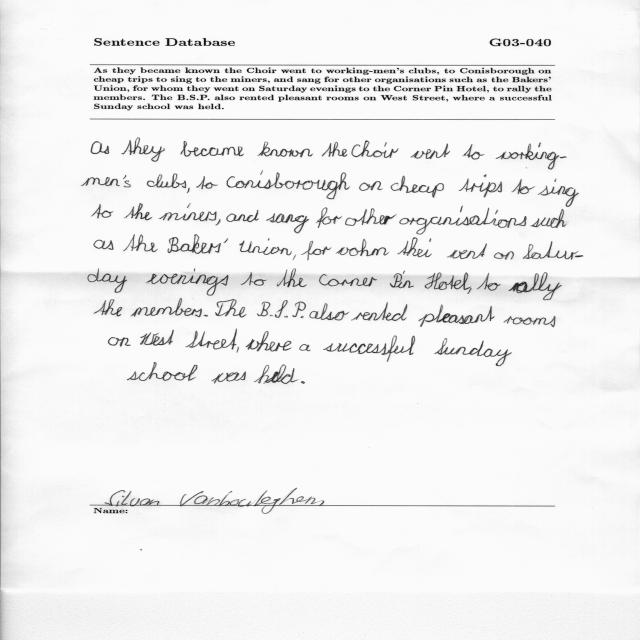word: (400, 206, 527, 235), (227, 171, 350, 199), (323, 335, 415, 362), (146, 269, 229, 296), (435, 338, 512, 366), (511, 178, 579, 207), (496, 143, 566, 170), (418, 304, 495, 327), (508, 272, 562, 300), (130, 298, 202, 317), (128, 363, 198, 381), (168, 234, 228, 254), (391, 176, 444, 198), (523, 241, 583, 260), (351, 302, 407, 321), (121, 138, 165, 162), (458, 174, 502, 198), (159, 203, 217, 221), (185, 329, 237, 349), (180, 141, 244, 157), (88, 268, 127, 293), (246, 331, 291, 352), (345, 208, 396, 226), (239, 238, 292, 255), (336, 239, 389, 256), (257, 300, 306, 318), (266, 213, 309, 233), (254, 365, 299, 384), (352, 140, 399, 158), (425, 272, 471, 290), (258, 142, 313, 157), (397, 238, 432, 258), (319, 274, 377, 286), (310, 304, 350, 321), (531, 209, 566, 228), (447, 243, 487, 259), (123, 234, 158, 252), (411, 144, 451, 159), (81, 175, 131, 187), (215, 299, 247, 317), (301, 241, 331, 260), (277, 269, 307, 288), (504, 316, 555, 327), (147, 174, 186, 188), (316, 207, 342, 228), (140, 330, 174, 346), (124, 204, 152, 221), (94, 300, 122, 317), (477, 273, 501, 291), (211, 372, 246, 384), (390, 271, 414, 288), (226, 210, 259, 222), (322, 142, 348, 157), (241, 272, 267, 286), (464, 144, 485, 160), (92, 204, 114, 218), (196, 176, 218, 189), (359, 181, 383, 191), (91, 141, 109, 154), (94, 239, 114, 250), (109, 337, 131, 347), (494, 251, 514, 260), (299, 344, 311, 351), (215, 219, 221, 226), (467, 288, 472, 294), (236, 347, 239, 353), (187, 188, 190, 193), (293, 255, 296, 260), (301, 381, 305, 384), (204, 315, 208, 317)
